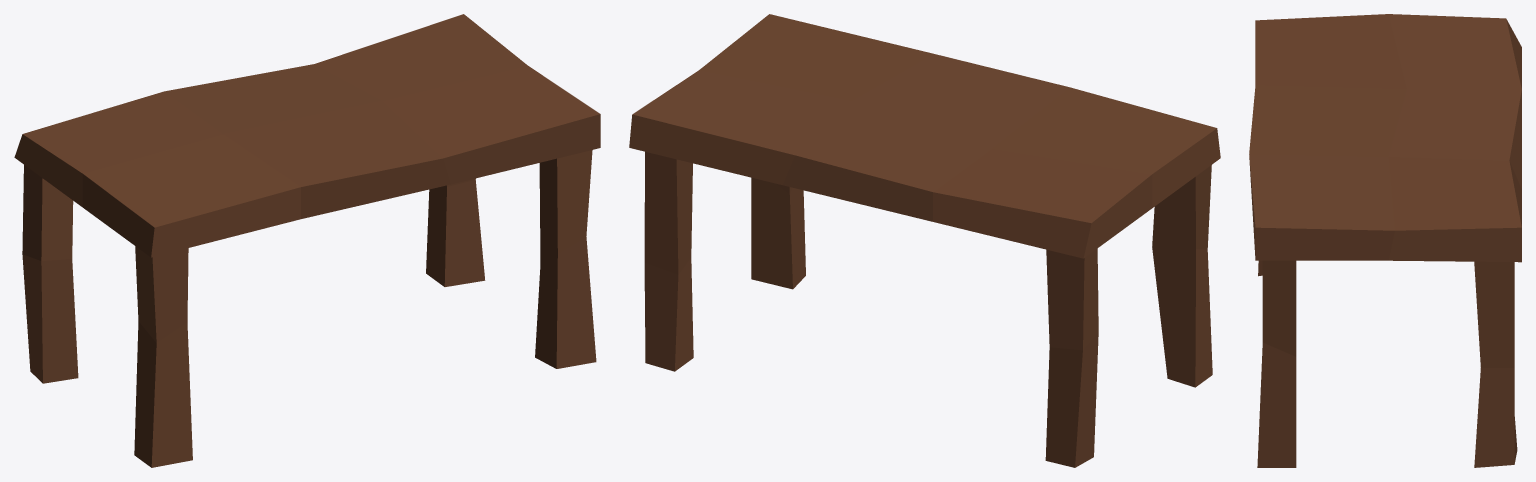
File: wooden_table.glb
3 views of the same model, side by side, from view 1: azimuth 30°, elevation 25°; view 2: azimuth 150°, elevation 25°; view 3: azimuth 270°, elevation 25° (orthographic). The views are drawn at different scales.
Parts seen in each view (by area): view 1: Wood; view 2: Wood; view 3: Wood.
Boxes of the visible parts, <box> form: Wood: <box>14,14,600,467</box>; Wood: <box>629,14,1220,467</box>; Wood: <box>1249,14,1521,467</box>.
Bounding box in the file's own units: 1.65 × 0.8667 × 0.8862.
